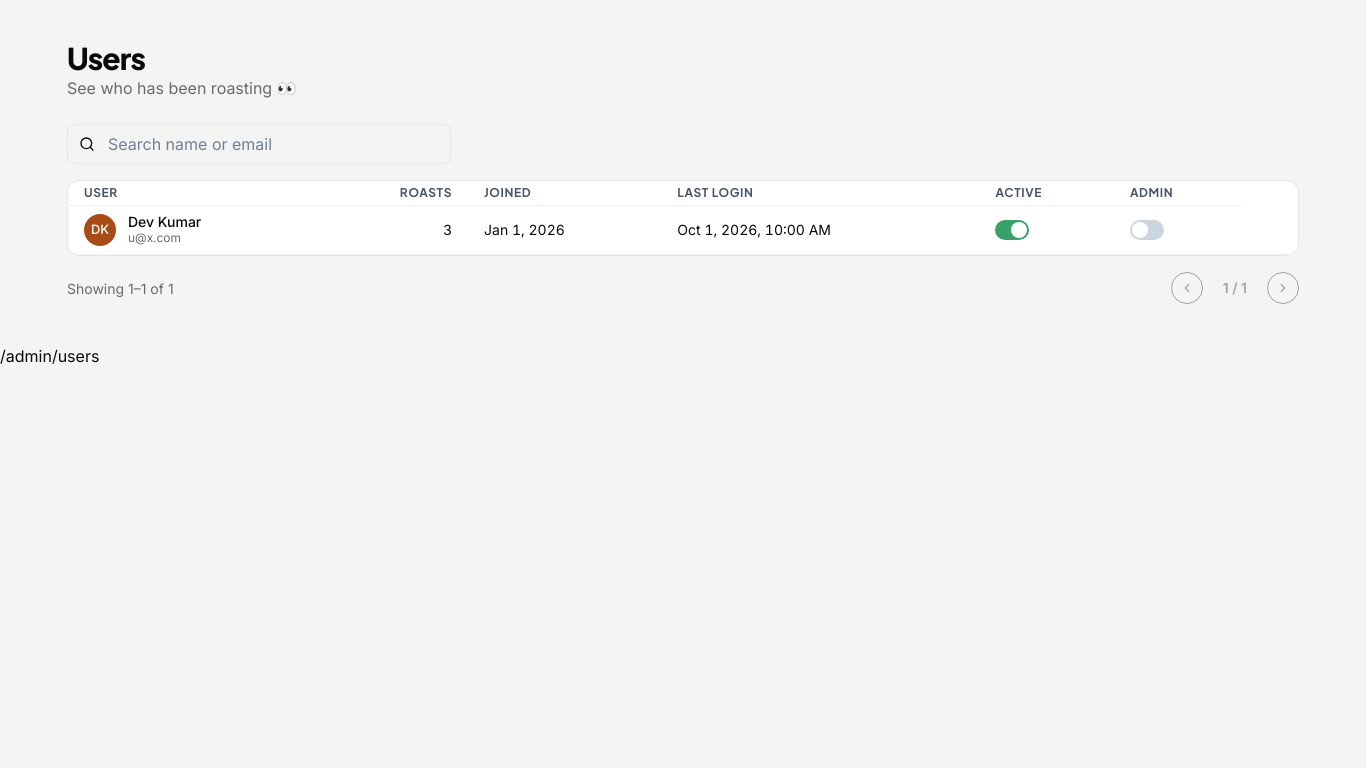
Test: AdminUsersPage › cancel closes the dialog without updating
The image size is (1366, 768).
Step 1. Click the checkbox named "Make admin u@x.com" → point(1147, 230), box [1130,220,1164,240]
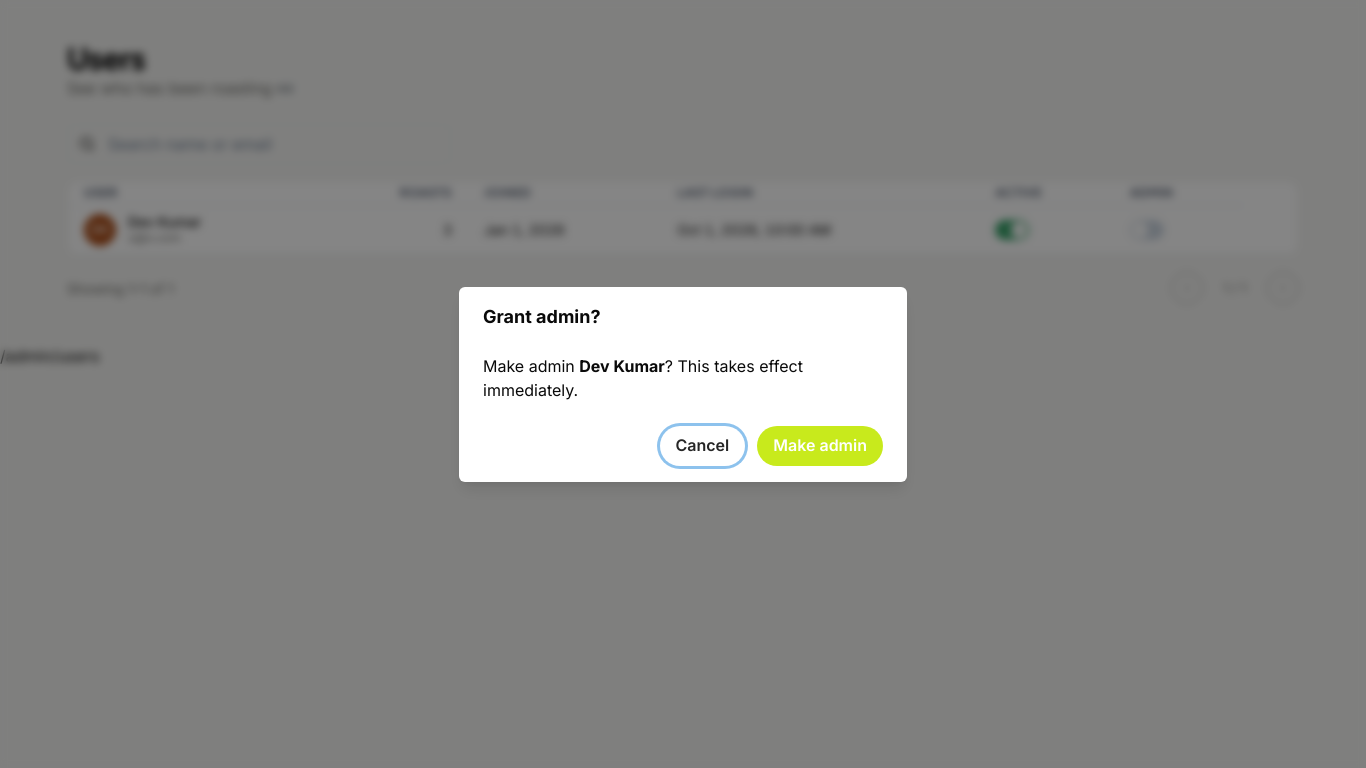
Now the text "Grant admin?" is shown, box [483,306,600,326]
Step 2. Click the button "Cancel" → point(702, 446), box [660,426,745,466]
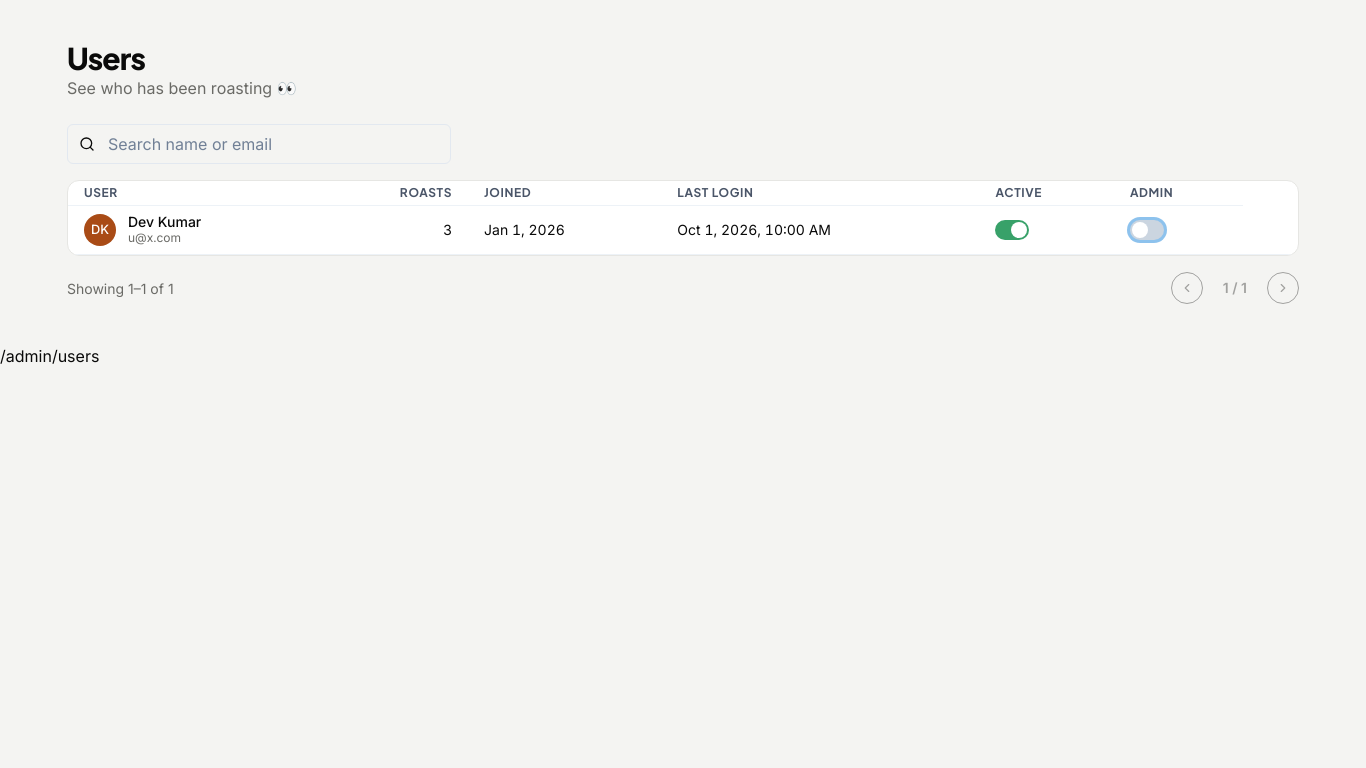
Now the dialog is gone
